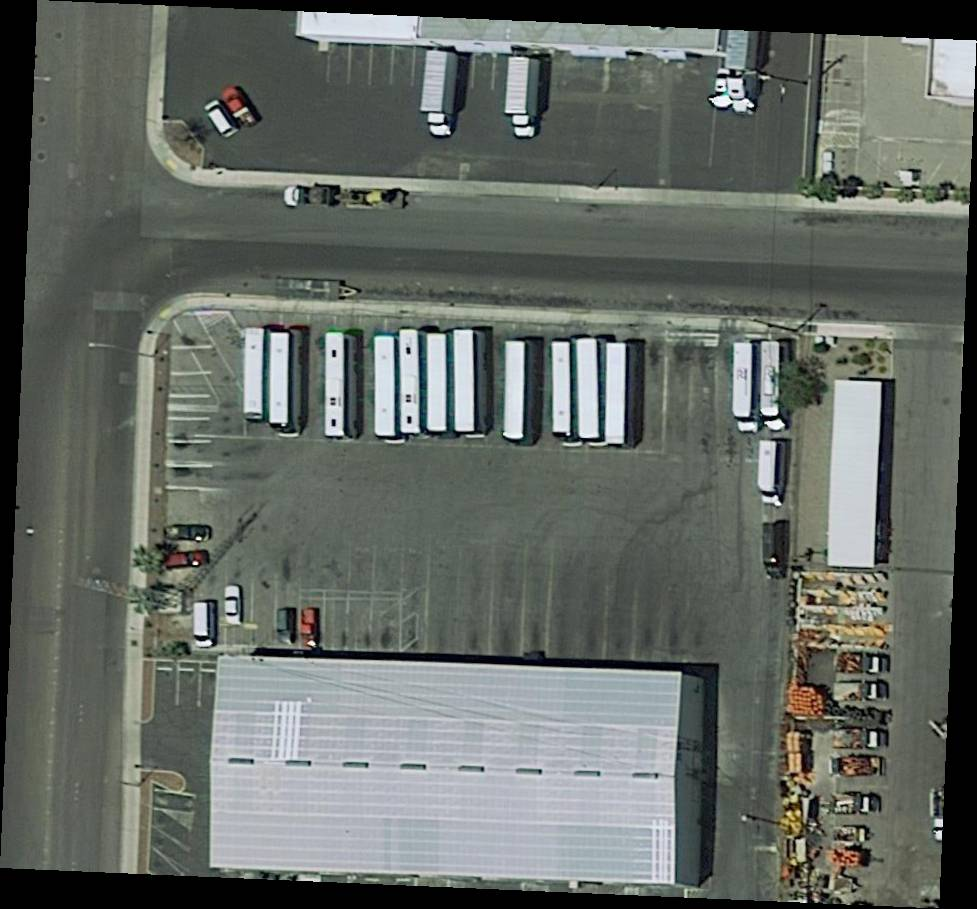large vehicle: (415, 50, 469, 142), (450, 328, 491, 441), (721, 34, 773, 121), (501, 58, 552, 145), (324, 328, 361, 443), (269, 331, 306, 441), (503, 340, 540, 448), (577, 339, 606, 452), (605, 340, 634, 453), (760, 343, 796, 433), (550, 339, 578, 450), (730, 344, 763, 436), (373, 334, 398, 449), (758, 440, 797, 508), (398, 328, 422, 438), (426, 332, 449, 435), (243, 326, 265, 426), (761, 523, 792, 581)
small vehicle: (204, 100, 239, 139), (222, 89, 257, 127), (191, 602, 215, 647), (285, 188, 330, 206), (165, 551, 209, 569), (223, 585, 241, 624), (277, 608, 296, 644), (302, 609, 319, 648), (163, 527, 207, 541)
